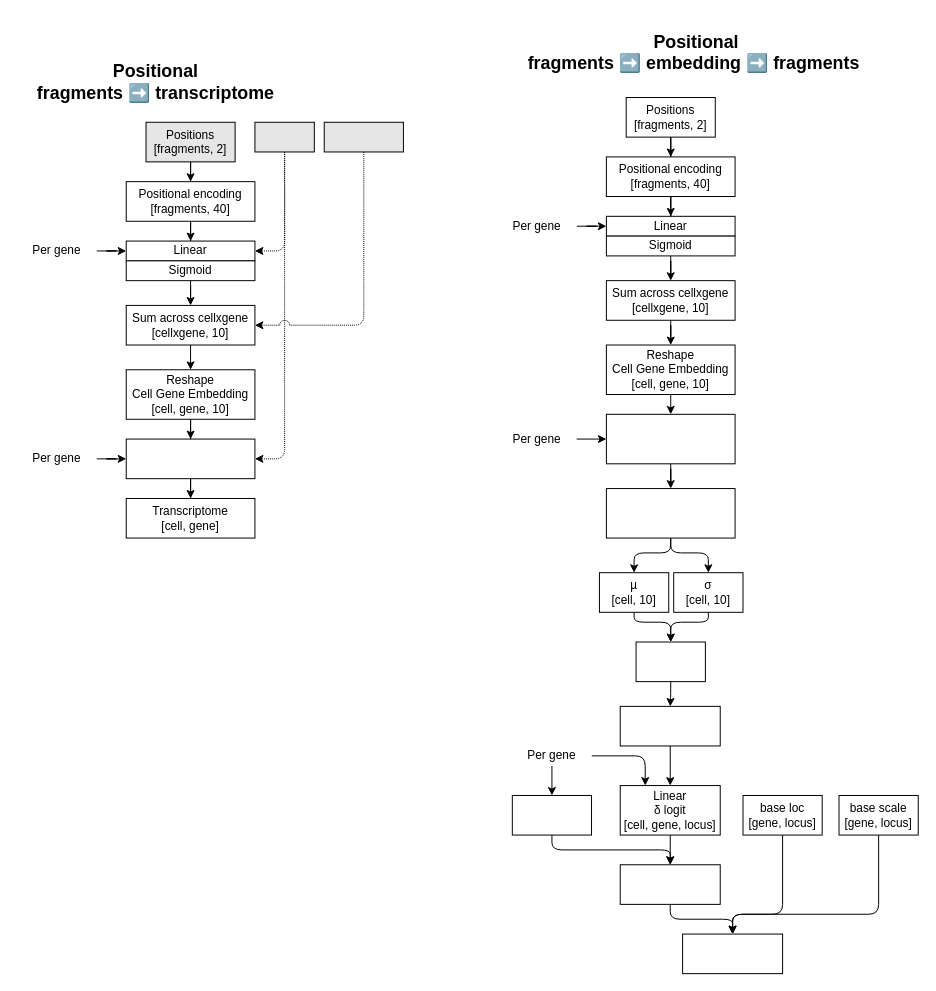
This 936x991 diagram has some shape labels left out. Each missing label, with the box of its shape:
base logit [gene, locus]: (511, 794, 592, 835)
Genemapping [fragments]: (254, 121, 314, 152)
Linear [cell, gene, 1]: (125, 438, 255, 479)
Linear Cell Embedding [cell, 10]: (605, 413, 735, 464)
local_cellxgene_ix [fragments]: (323, 121, 403, 152)
logit [cell, gene, locus]: (619, 864, 720, 904)
NN [cell, 16]: (619, 705, 720, 746)
NN Cell Embedding [cell, 10]: (605, 488, 735, 538)
p [cell, gene, locus]: (682, 933, 783, 974)
z [cell, 10]: (635, 641, 705, 682)
